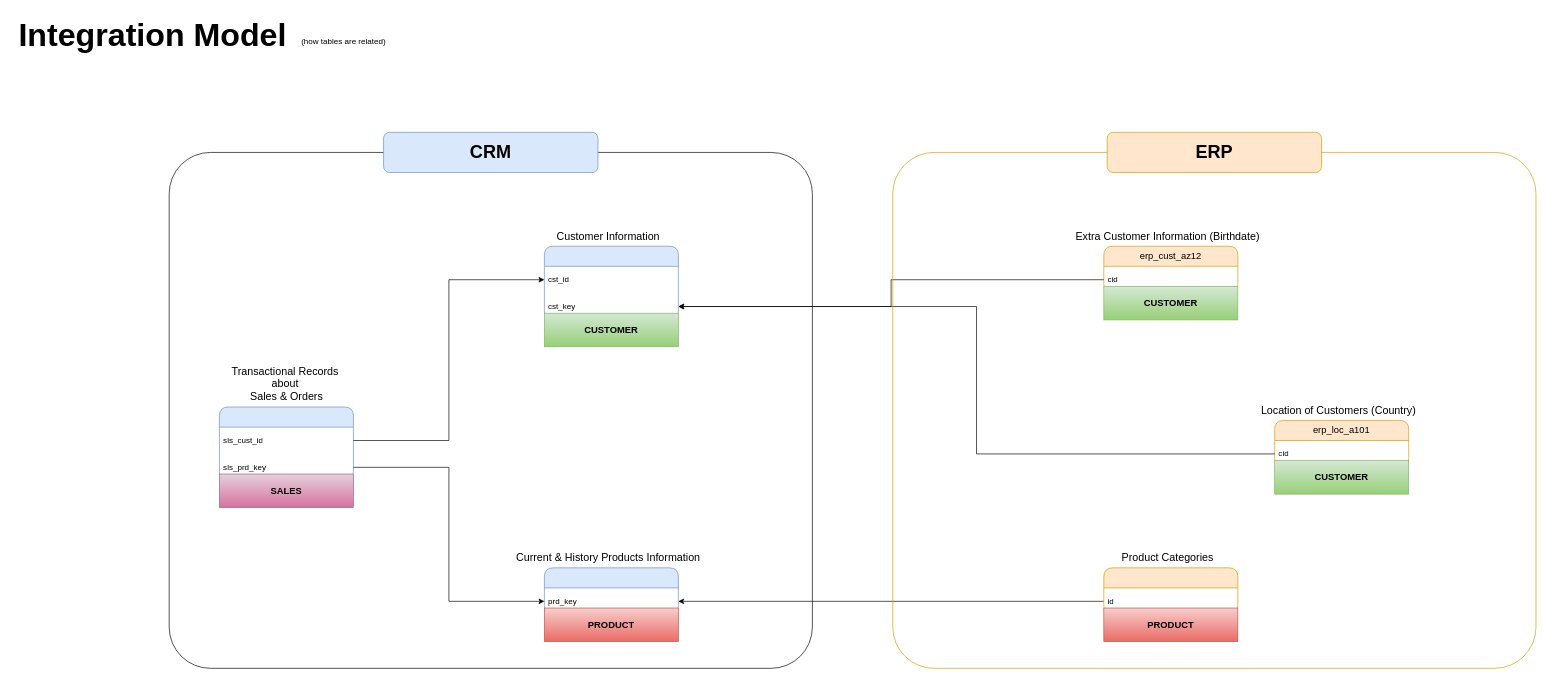
Image size: 1548x680. Some labels were removed from this diagram. The shapes that lost their labels are listed below. From the top down, each one's box as (x1, y1, x2, y2) in pixels, then its label:
(544, 246, 678, 320): crm_cust_info
(219, 406, 353, 481): crm_sales_details
(544, 567, 678, 615): crm_prd_info
(1103, 567, 1238, 615): erp_px_cat_g1v2
